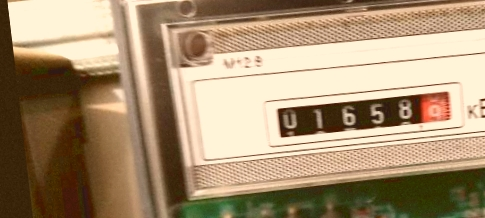0: (279, 107, 298, 130)
1: (309, 105, 325, 130)
5: (367, 99, 385, 125)
6: (338, 102, 358, 128)
8: (394, 96, 414, 120)
9: (424, 101, 442, 123)
screen: (258, 73, 470, 155)
